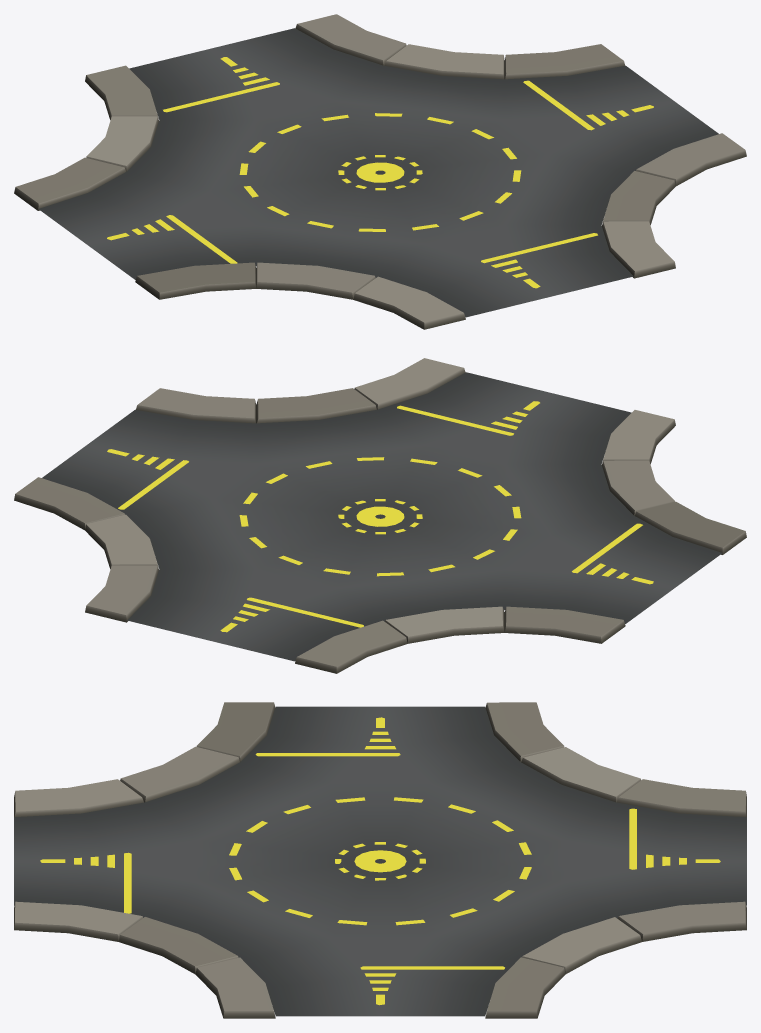
Rendered from Roundabout_2E.fbx.
3 renders of one model, top to bottom at view 1: azimuth 30°, elevation 25°; view 2: azimuth 150°, elevation 25°; view 3: azimuth 270°, elevation 25°, orthographic. The views are drawn at different scales.
Visible parts, largest first — view 1: Roundabout_2E; view 2: Roundabout_2E; view 3: Roundabout_2E.
Boxes of the visible parts, box(x1,y1,x2,y2) form: Roundabout_2E: box(14, 14, 746, 329); Roundabout_2E: box(14, 358, 746, 673); Roundabout_2E: box(14, 702, 746, 1018).
Bounding box in the file's own units: 2800 × 30 × 2800.
